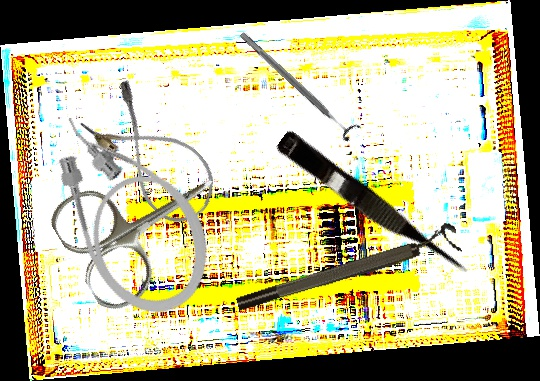Cannula: (33, 86, 230, 332), (76, 76, 230, 235)
Fixation Ring: (232, 220, 462, 316), (233, 25, 363, 144)
Iris Scissors: (43, 129, 245, 319)
Micro Scissor: (272, 128, 474, 287)
